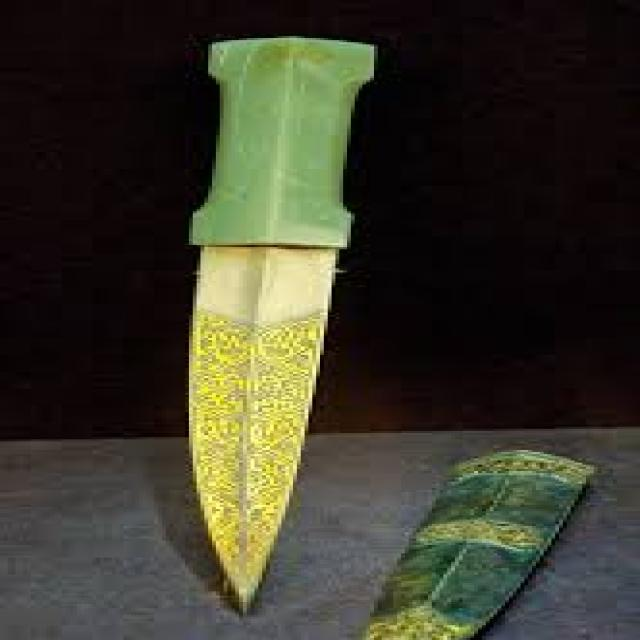Gun: (138, 7, 395, 614)
